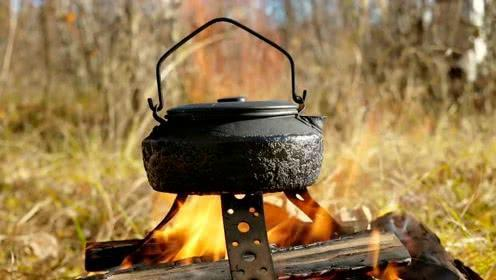fire: (132, 173, 407, 278), (174, 4, 283, 101)
